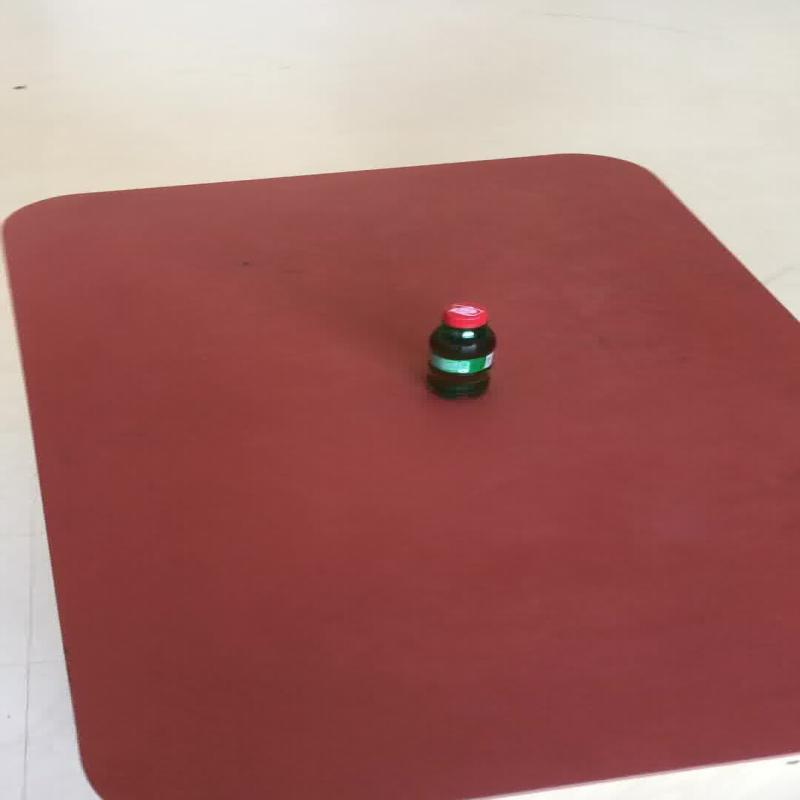guarana: (423, 300, 496, 400)
